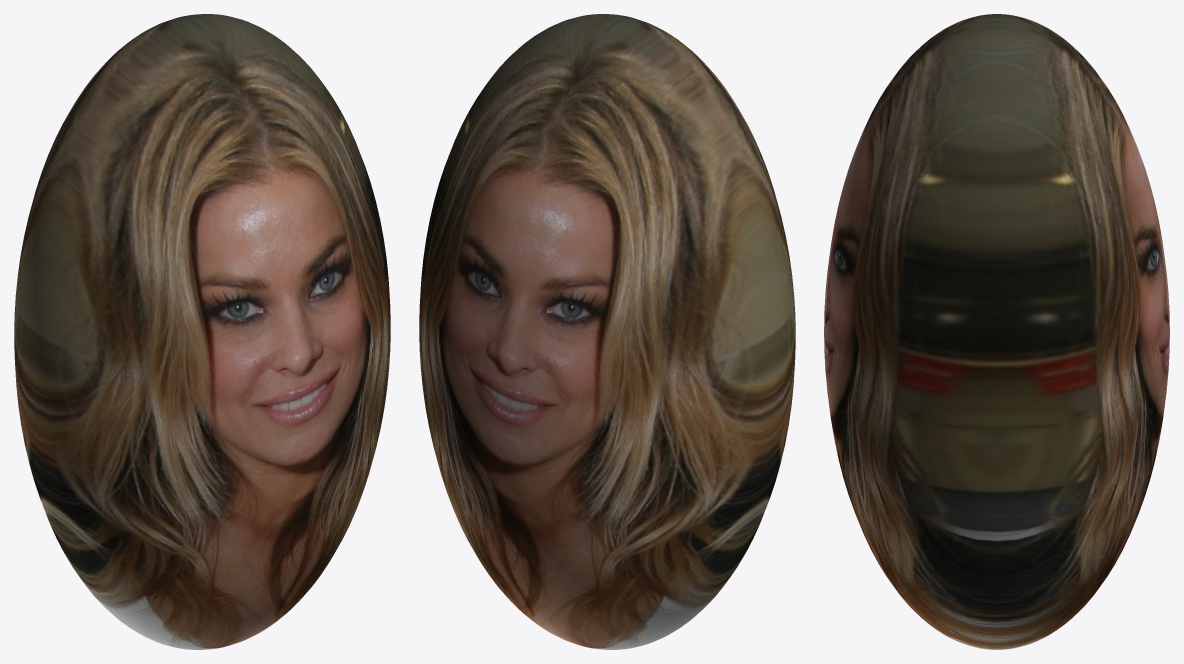
The picture shows the model from 3 angles, left to right: view 1: azimuth 30°, elevation 25°; view 2: azimuth 150°, elevation 25°; view 3: azimuth 270°, elevation 25°; orthographic projection.
Parts seen in each view (by area): view 1: head; view 2: head; view 3: head.
Part boxes in pixels (left/top/right/bottom): head: left=14, top=14, right=390, bottom=649; head: left=419, top=14, right=795, bottom=649; head: left=824, top=14, right=1169, bottom=649.
Size of the model in its own units: 1.13 by 2 by 1.02.
Materials: 1 (1 with a texture image).
